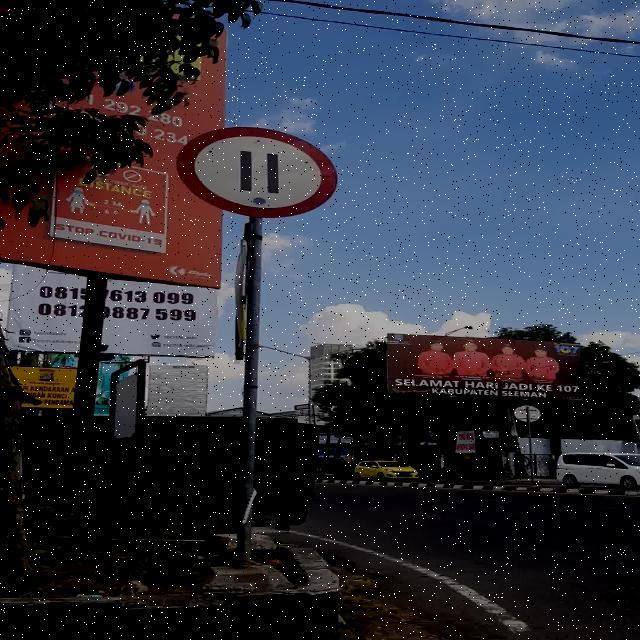Larangan Muatan - 10 ton: (176, 126, 338, 218)
